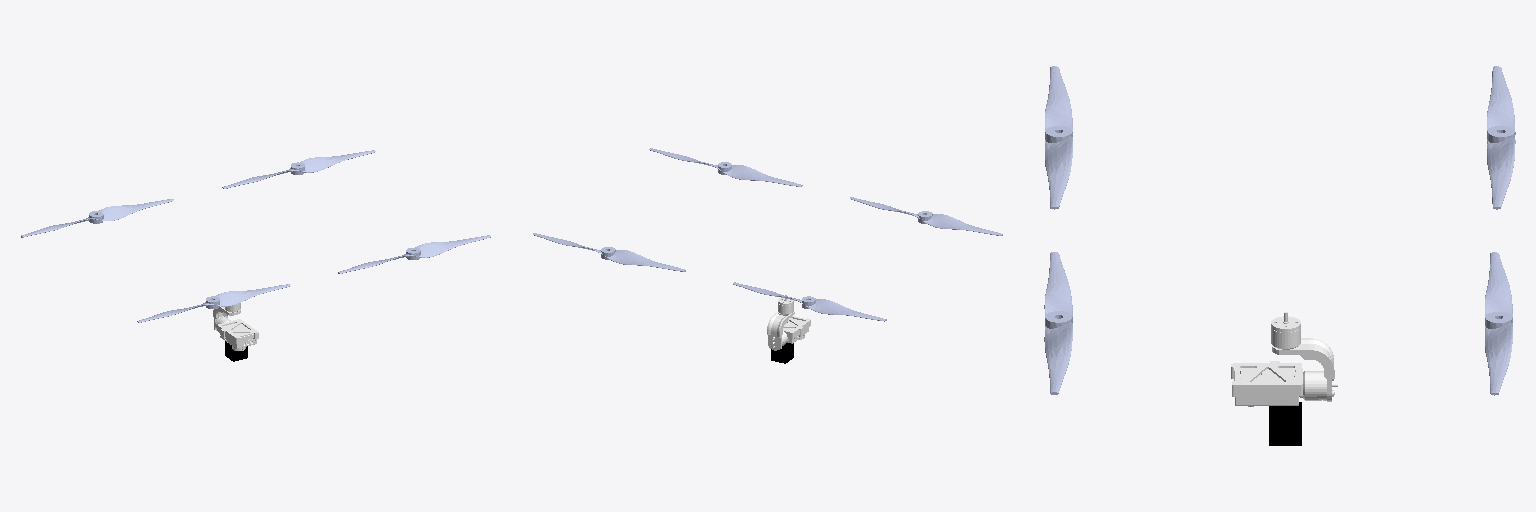
robot.urdf — Final_Drone:
<?xml version="1.0"?>
<robot name="Final_Drone">


  <link name="base_link">
    <inertial>
      <origin xyz="0.031328 -0.0071153 -0.051516" rpy="0 0 0" />
      <mass value="0.75775" />
      <inertia
        ixx="0.00039159" ixy="1.4124E-06" ixz="-5.7668E-07"
        iyy="0.00087671" iyz="-8.7619E-08" izz="0.00099537" />
    </inertial>
    <visual>
      <origin xyz="0 0 0.08" rpy="0 0 0" />
      <geometry>
        <mesh filename="package://xresto_drone/meshes/base_link.STL" />
      </geometry>
      <material name="">
        <color rgba="0.75294 0.75294 0.75294 1" />
      </material>
    </visual>
    <collision>
      <origin xyz="0 0 0.03" rpy="0 0 0" />
      <geometry>
        <box size="0.3 0.3 0.16" />
      </geometry>
    </collision>
  </link>

  <link name="prop1">
    <inertial>
      <origin xyz="0.0089965 0.0012089 0.027957" rpy="0 0 0" />
      <mass value="0.023983" />
      <inertia
        ixx="1.0527E-06" ixy="2.2757E-12" ixz="5.1184E-09"
        iyy="0.00010448" iyz="8.9019E-14" izz="0.00010513" />
    </inertial>
    <visual>
      <origin xyz="0 0 0" rpy="0 0 0" />
      <geometry>
        <mesh filename="package://xresto_drone/meshes/prop1.STL" />
      </geometry>
      <material name="">
        <color rgba="0.79216 0.81961 0.93333 1" />
      </material>
    </visual>
    <collision>
      <origin xyz="0 0 0.02" rpy="0 0 0" />
      <geometry>
        <cylinder radius="0.12" length="0.01" />
      </geometry>
    </collision>
  </link>
  <joint name="prop1_joint" type="continuous">
    <origin xyz="-0.17625 -0.20944 0.033767" rpy="0 0 0" />
    <parent link="base_link" />
    <child link="prop1" />
    <axis xyz="0.035355 0.035355 0.99875" />
  </joint>

  <link name="prop2">
    <inertial>
      <origin xyz="0.00091731 0.0017103 0.03332" rpy="0 0 0" />
      <mass value="0.023983" />
      <inertia
        ixx="1.0527E-06" ixy="-1.5805E-13" ixz="5.1194E-09"
        iyy="0.00010448" iyz="-9.6134E-14" izz="0.00010513" />
    </inertial>
    <visual>
      <origin xyz="0 0 0" rpy="0 0 0" />
      <geometry>
        <mesh filename="package://xresto_drone/meshes/prop2.STL" />
      </geometry>
      <material name="">
        <color rgba="0.79216 0.81961 0.93333 1" />
      </material>
    </visual>
    <collision>
      <origin xyz="0 0 0.02" rpy="0 0 0" />
      <geometry>
        <cylinder radius="0.12" length="0.01" />
      </geometry>
    </collision>
  </link>
  <joint name="prop2_joint" type="continuous">
    <origin xyz="-0.16817 0.19585 0.028404" rpy="0 0 0" />
    <parent link="base_link" />
    <child link="prop2" />
    <axis xyz="0.035355 0.035355 0.99875" />
  </joint>

  <link name="prop3">
    <inertial>
      <origin xyz="-0.00051529 -0.00078627 0.0087396" rpy="0 0 0" />
      <mass value="0.023983" />
      <inertia
        ixx="1.0527E-06" ixy="-1.9102E-13" ixz="5.1195E-09"
        iyy="0.00010448" iyz="-8.4176E-14" izz="0.00010513" />
    </inertial>
    <visual>
      <origin xyz="0 0 0" rpy="0 0 0" />
      <geometry>
        <mesh filename="package://xresto_drone/meshes/prop3.STL" />
      </geometry>
      <material name="">
        <color rgba="0.79216 0.81961 0.93333 1" />
      </material>
    </visual>
    <collision>
      <origin xyz="0 0 0.02" rpy="0 0 0" />
      <geometry>
        <cylinder radius="0.12" length="0.01" />
      </geometry>
    </collision>
  </link>
  <joint name="prop3_joint" type="continuous">
    <origin xyz="0.23698 0.19627 0.052984" rpy="0 0 0" />
    <parent link="base_link" />
    <child link="prop3" />
    <axis xyz="-0.035355 -0.035355 0.99875" />
  </joint>

  <link name="prop4">
    <inertial>
      <origin xyz="0.008506 0.00029722 0.028642" rpy="0 0 0" />
      <mass value="0.023983" />
      <inertia
        ixx="1.0527E-06" ixy="1.0563E-13" ixz="5.1193E-09"
        iyy="0.00010448" iyz="-9.4332E-14" izz="0.00010513" />
    </inertial>
    <visual>
      <origin xyz="0 0 0" rpy="0 0 0" />
      <geometry>
        <mesh filename="package://xresto_drone/meshes/prop4.STL" />
      </geometry>
      <material name="">
        <color rgba="0.79216 0.81961 0.93333 1" />
      </material>
    </visual>
    <collision>
      <origin xyz="0 0 0.02" rpy="0 0 0" />
      <geometry>
        <cylinder radius="0.12" length="0.01" />
      </geometry>
    </collision>
  </link>
  <joint name="prop4_joint" type="continuous">
    <origin xyz="0.22702 -0.2087 0.033094" rpy="0 0 0" />
    <parent link="base_link" />
    <child link="prop4" />
    <axis xyz="-0.035355 0.035355 0.99875" />
  </joint>

  <link name="camera_link">
    <inertial>
      <origin xyz="0 0 0" rpy="0 0 0" />
      <mass value="0.05" />
      <inertia
        ixx="1e-04" ixy="0" ixz="0"
        iyy="1e-04" iyz="0" izz="1e-04" />
    </inertial>
    <visual>
      <origin xyz="0 0 0" rpy="0 0 0" />
      <geometry>
        <mesh filename="package://xresto_drone/meshes/camera_link.STL" />
      </geometry>
      <material name="">
        <color rgba="1 1 1 1" />
      </material>
    </visual>
    <collision>
      <origin xyz="0 0 0" rpy="0 0 0" />
      <geometry>
        <box size="0.05 0.05 0.05" />
      </geometry>
    </collision>
  </link>
  <joint name="camera_joint" type="fixed">
    <origin xyz="0 0 -0.08" rpy="0 0 0" />
    <parent link="base_link" />
    <child link="camera_link" />
    <axis xyz="0 0 0" />
  </joint>

  <!-- Bottom Camera Link for Landing Pad Detection -->
  <link name="bottom_camera_link">
    <inertial>
      <origin xyz="0 0 0" rpy="0 0 0" />
      <mass value="0.03" />
      <inertia
        ixx="1e-05" ixy="0" ixz="0"
        iyy="1e-05" iyz="0" izz="1e-05" />
    </inertial>
    <visual>
      <origin xyz="0 0 0" rpy="0 0 0" />
      <geometry>
        <box size="0.03 0.03 0.03" />
      </geometry>
      <material name="">
        <color rgba="0 0 0 1" />
      </material>
    </visual>
    <collision>
      <origin xyz="0 0 0" rpy="0 0 0" />
      <geometry>
        <box size="0.03 0.03 0.03" />
      </geometry>
    </collision>
  </link>

  <joint name="bottom_camera_joint" type="fixed">
    <origin xyz="0 0 -0.15" rpy="1.5708 0 0" />
    <parent link="base_link" />
    <child link="bottom_camera_link" />
    <axis xyz="0 0 0" />
  </joint>

  <gazebo reference="base_link">
    <material>Gazebo/DarkGrey</material>
  </gazebo>
  <gazebo reference="prop1">
    <material>Gazebo/Blue</material>
  </gazebo>
  <gazebo reference="prop2">
    <material>Gazebo/Blue</material>
  </gazebo>
  <gazebo reference="prop3">
    <material>Gazebo/Blue</material>
  </gazebo>
  <gazebo reference="prop4">
    <material>Gazebo/Blue</material>
  </gazebo>
  <gazebo reference="camera_link">
    <material>Gazebo/Red</material>
  </gazebo>

  <gazebo reference="base_link">
    <sensor name="drone_imu" type="imu">
      <always_on>true</always_on>
      <update_rate>100</update_rate>
      <plugin name="imu_plugin" filename="libgazebo_ros_imu_sensor.so">
        <ros>
          <namespace>/drone</namespace>
          <remapping>~/out:=imu</remapping>
        </ros>
      </plugin>
    </sensor>

    <!-- Altitude Sensor (LiDAR) - Mounted below drone pointing downward -->
    <sensor name="altitude_sensor" type="ray">
      <pose>0 0 -0.15 0 1.5708 0</pose>
      <always_on>true</always_on>
      <update_rate>40</update_rate>
      <ray>
        <scan><horizontal><samples>1</samples><resolution>1</resolution><min_angle>0</min_angle><max_angle>0</max_angle></horizontal></scan>
        <range><min>0.1</min><max>50.0</max><resolution>0.01</resolution></range>
      </ray>
      <plugin name="altitude_plugin" filename="libgazebo_ros_ray_sensor.so">
        <ros>
          <namespace>/drone</namespace>
          <remapping>~/out:=altitude</remapping>
        </ros>
        <output_type>sensor_msgs/LaserScan</output_type>
      </plugin>
    </sensor>
  </gazebo>

  <gazebo reference="camera_link">
    <!-- RGB Camera -->
    <sensor type="camera" name="front_camera">
      <always_on>true</always_on>
      <update_rate>30.0</update_rate>
      <camera>
        <horizontal_fov>1.5</horizontal_fov>
        <image>
          <width>640</width>
          <height>480</height>
          <format>R8G8B8</format>
        </image>
        <clip><near>0.1</near><far>20.0</far></clip>
      </camera>
      <plugin name="camera_plugin" filename="libgazebo_ros_camera.so">
        <ros>
          <namespace>/drone</namespace>
        </ros>
        <camera_name>front_camera</camera_name>
        <frame_name>camera_link</frame_name>
      </plugin>
    </sensor>

    <!-- Depth Camera -->
    <sensor type="depth" name="front_depth_camera">
      <always_on>true</always_on>
      <update_rate>30.0</update_rate>
      <camera>
        <horizontal_fov>1.5</horizontal_fov>
        <image>
          <width>640</width>
          <height>480</height>
          <format>R8G8B8</format>
        </image>
        <clip><near>0.1</near><far>20.0</far></clip>
      </camera>
      <plugin name="depth_camera_plugin" filename="libgazebo_ros_camera.so">
        <ros>
          <namespace>/drone</namespace>
        </ros>
        <camera_name>front_camera</camera_name>
        <frame_name>camera_link</frame_name>
      </plugin>
    </sensor>
  </gazebo>

  <!-- Bottom Camera for Landing Pad Detection -->
  <gazebo reference="bottom_camera_link">
    <material>Gazebo/Black</material>
    <sensor type="camera" name="bottom_camera">
      <always_on>true</always_on>
      <update_rate>30.0</update_rate>
      <camera>
        <horizontal_fov>1.047</horizontal_fov>
        <image>
          <width>640</width>
          <height>480</height>
          <format>R8G8B8</format>
        </image>
        <clip><near>0.05</near><far>10.0</far></clip>
      </camera>
      <plugin name="bottom_camera_plugin" filename="libgazebo_ros_camera.so">
        <ros>
          <namespace>/drone</namespace>
          <remapping>image_raw:=bottom_camera/image_raw</remapping>
          <remapping>camera_info:=bottom_camera/camera_info</remapping>
        </ros>
        <camera_name>bottom_camera</camera_name>
        <frame_name>bottom_camera_link</frame_name>
      </plugin>
    </sensor>
  </gazebo>

  <gazebo>
    <plugin name="gazebo_ros_force" filename="libgazebo_ros_force.so">
      <ros>
        <namespace>/drone</namespace>
        <remapping>gazebo_ros_force:=cmd_force</remapping>
      </ros>
      <link_name>base_link</link_name>
      <force_frame>link</force_frame> 
    </plugin>
  </gazebo>

  <gazebo>
    <plugin name="drone_odometry" filename="libgazebo_ros_p3d.so">
      <ros>
        <namespace>/drone</namespace>
        <remapping>odom:=odom</remapping>
      </ros>
      <body_name>base_link</body_name>
      <topic_name>odom</topic_name>
      <update_rate>50.0</update_rate>
    </plugin>
  </gazebo>

</robot>

--- What the picture shows (computed from the rendered views, not written in the file) ---
The picture shows the robot from 3 angles, left to right: view 1: azimuth 30°, elevation 25°; view 2: azimuth 150°, elevation 25°; view 3: azimuth 270°, elevation 25°; orthographic projection.
Model Final_Drone with 7 links and 6 joints (4 continuous, 2 fixed), rooted at base_link, posed all joints at 0.
Links seen in each view (by area): view 1: camera_link, prop1, prop2, prop3, prop4; view 2: camera_link, prop1, prop3, prop2, prop4; view 3: camera_link, prop2, prop4, prop1, prop3, bottom_camera_link.
Boxes of the visible links, x1,y1,x2,y2 form: camera_link: [213, 303, 258, 350]; prop1: [137, 284, 290, 322]; prop2: [21, 199, 173, 237]; prop3: [222, 150, 375, 188]; prop4: [338, 235, 490, 273]; camera_link: [767, 295, 810, 350]; prop1: [850, 197, 1002, 235]; prop3: [533, 233, 685, 271]; prop2: [733, 282, 886, 321]; prop4: [649, 148, 802, 186]; camera_link: [1231, 312, 1337, 406]; prop2: [1487, 66, 1515, 209]; prop4: [1044, 252, 1072, 394]; prop1: [1045, 66, 1072, 209]; prop3: [1485, 252, 1512, 395]; bottom_camera_link: [1269, 402, 1301, 445].
Size in the robot's own frame: 0.7085 by 0.4322 by 0.2344 metres.
5 mesh visuals loaded from 6 distinct referenced files (5 binary STL); not drawn: 1 (reference not matched to a file when rendering).
